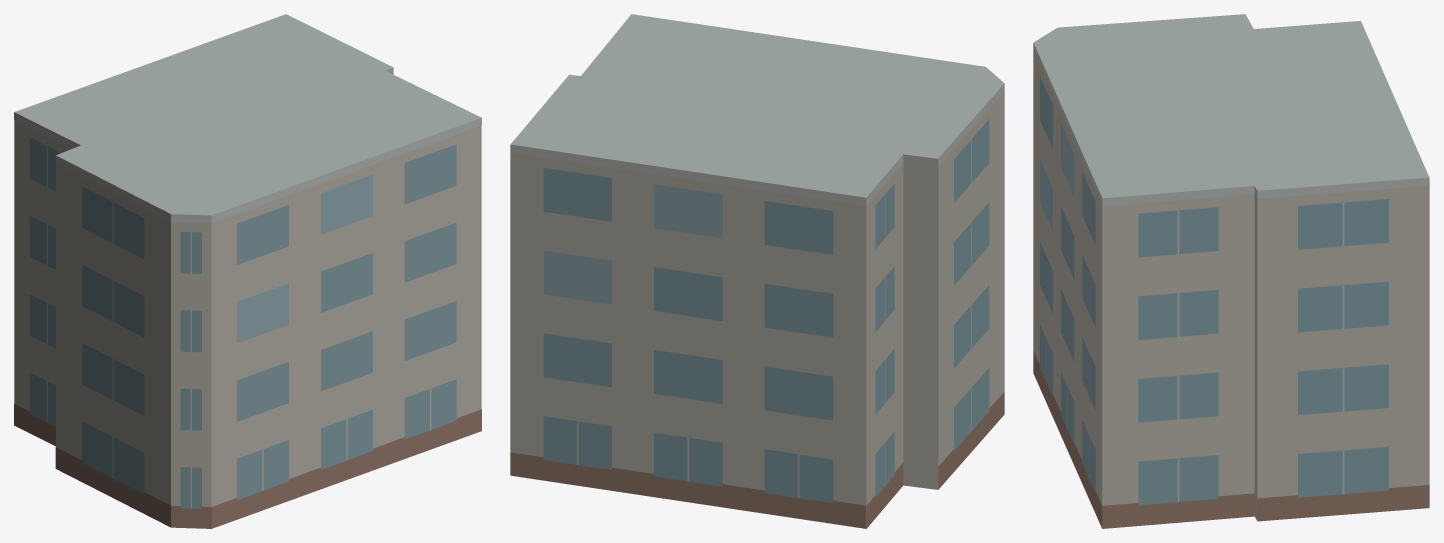
The model's file is survey-upis-32524409.glb.
3 renders of one model, left to right at view 1: azimuth 30°, elevation 25°; view 2: azimuth 150°, elevation 25°; view 3: azimuth 270°, elevation 25°, orthographic. The views are drawn at different scales.
Parts seen in each view (by area): view 1: survey-upis-32524409.tmp; view 2: survey-upis-32524409.tmp; view 3: survey-upis-32524409.tmp.
Part boxes in pixels (box(x1,y1,x2,y2)): survey-upis-32524409.tmp: box(14, 14, 481, 528); survey-upis-32524409.tmp: box(510, 14, 1004, 528); survey-upis-32524409.tmp: box(1033, 14, 1429, 528).
Bounding box in the file's own units: 11.87 × 9.92 × 10.78.
